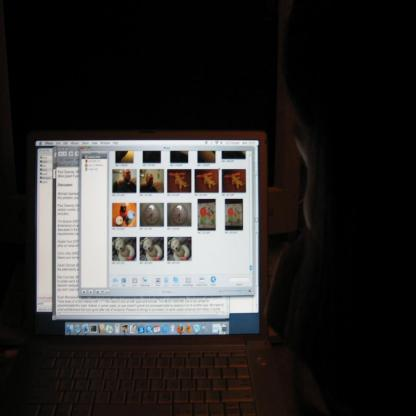board: (10, 126, 272, 407)
